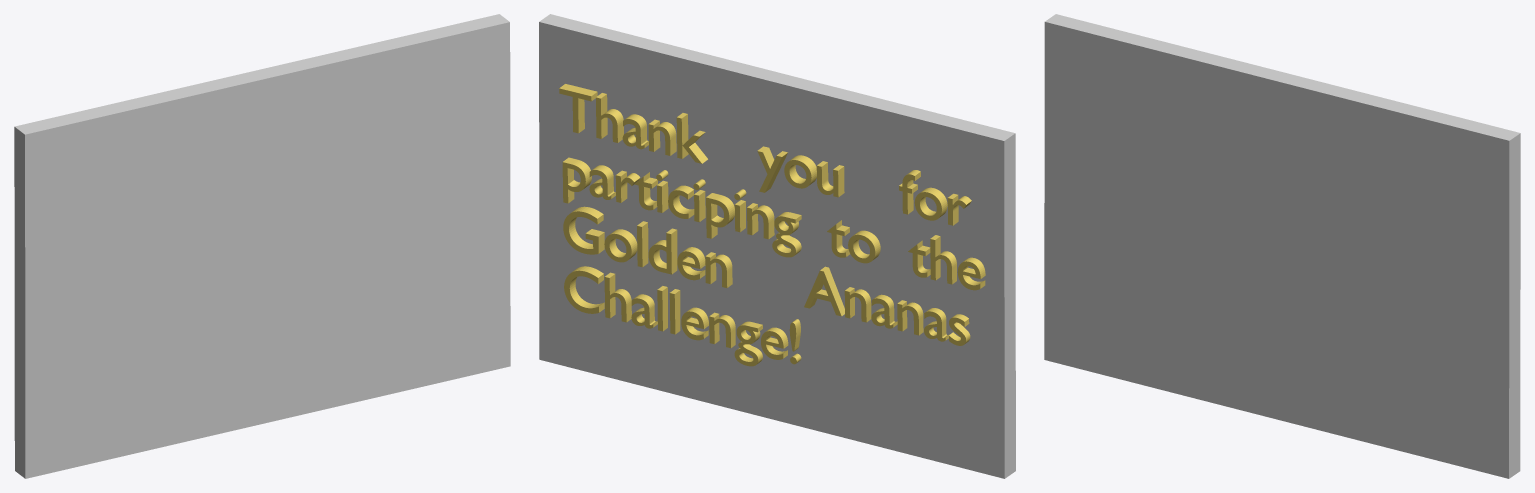
Rendered from thanksign.glb.
3 views of the same model, side by side, from view 1: azimuth 30°, elevation 25°; view 2: azimuth 150°, elevation 25°; view 3: azimuth 330°, elevation 25° (orthographic).
Visible parts, largest first — view 1: Plane.004; view 2: Plane.004, Text.001; view 3: Plane.004.
Boxes of the visible parts, left/top/right/bottom form: Plane.004: left=14, top=14, right=510, bottom=478; Plane.004: left=539, top=14, right=1015, bottom=478; Text.001: left=559, top=84, right=985, bottom=366; Plane.004: left=1044, top=14, right=1520, bottom=478.
Bounding box in the file's own units: 3.06 × 2.1 × 0.2485.
